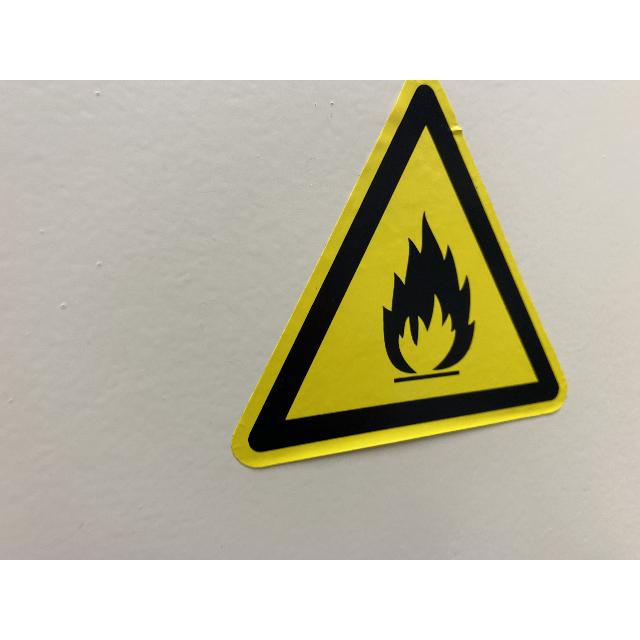fire hazard: (382, 210, 476, 384)
